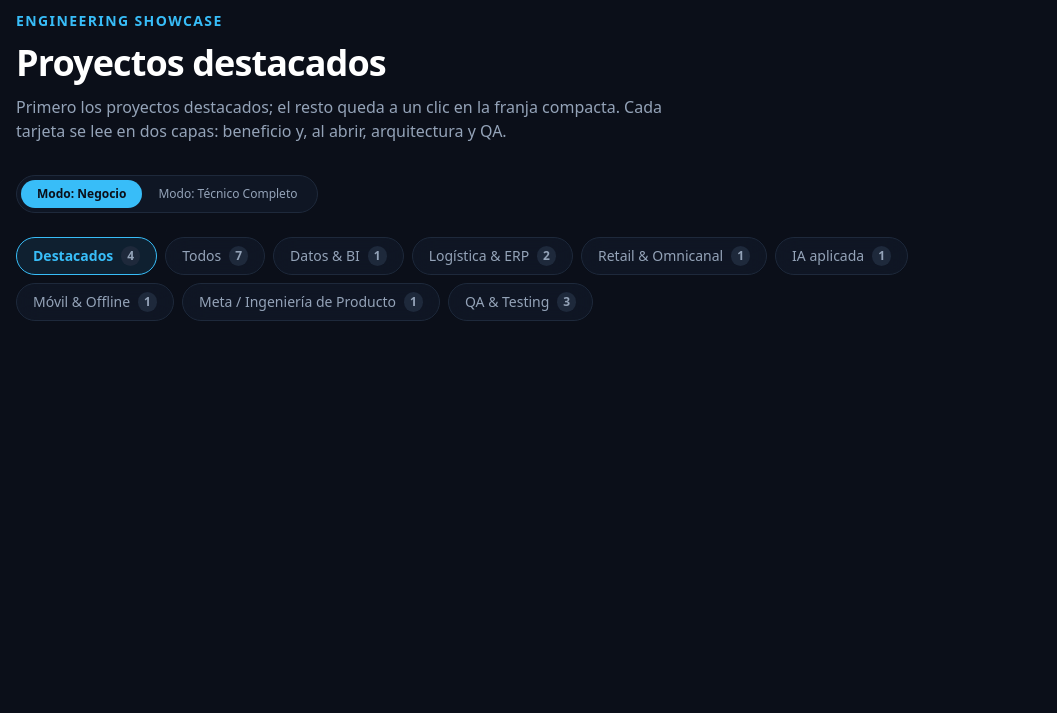
Test: Projects › el filtro Meta / Ingeniería de Producto muestra solo el caso del portafolio
Click the button "Meta / Ingeniería de Producto 1": (311, 302) [182,283,440,321]
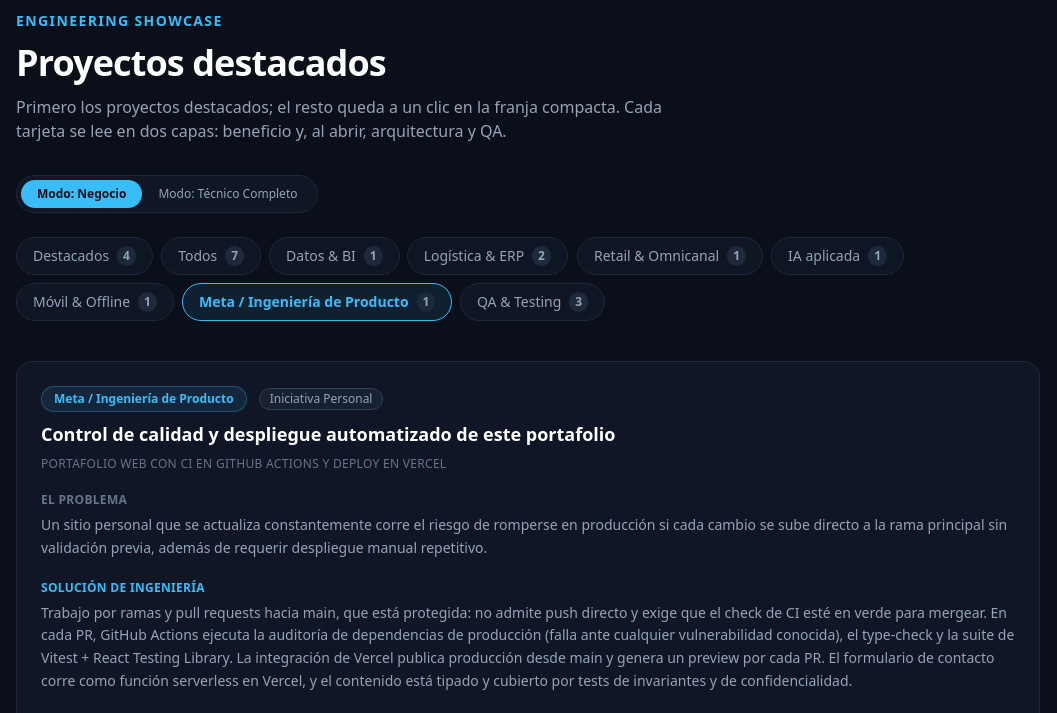
Result: the 2nd heading reads "Control de calidad y despliegue automatizado de este portafolio" at [41,422,615,446]
